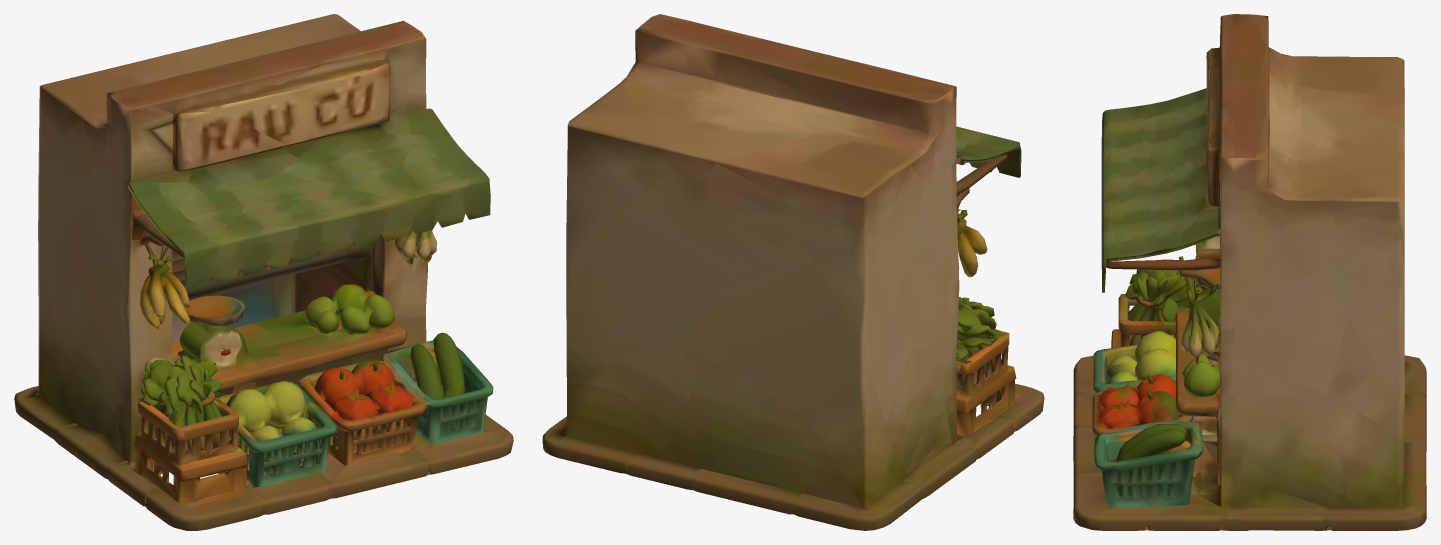
Rendered from vegetable_store.glb.
The picture shows the model from 3 angles, left to right: view 1: azimuth 30°, elevation 25°; view 2: azimuth 150°, elevation 25°; view 3: azimuth 270°, elevation 25°; orthographic projection.
Visible parts, largest first — view 1: tripo_node_d7df0835; view 2: tripo_node_d7df0835; view 3: tripo_node_d7df0835.
Boxes of the visible parts, x1,y1,x2,y2 form: tripo_node_d7df0835: [14, 14, 513, 530]; tripo_node_d7df0835: [542, 14, 1044, 530]; tripo_node_d7df0835: [1073, 14, 1426, 530].
Bounding box in the file's own units: 6.81 × 7 × 6.18.
Materials: 1 (1 with a texture image).
